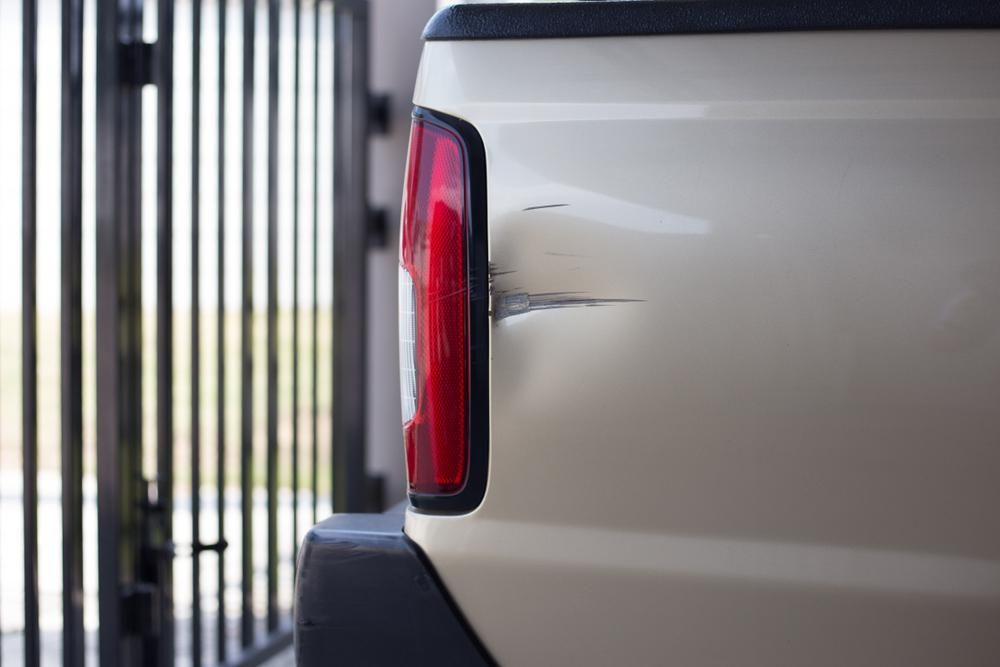dent: (488, 220, 635, 406)
